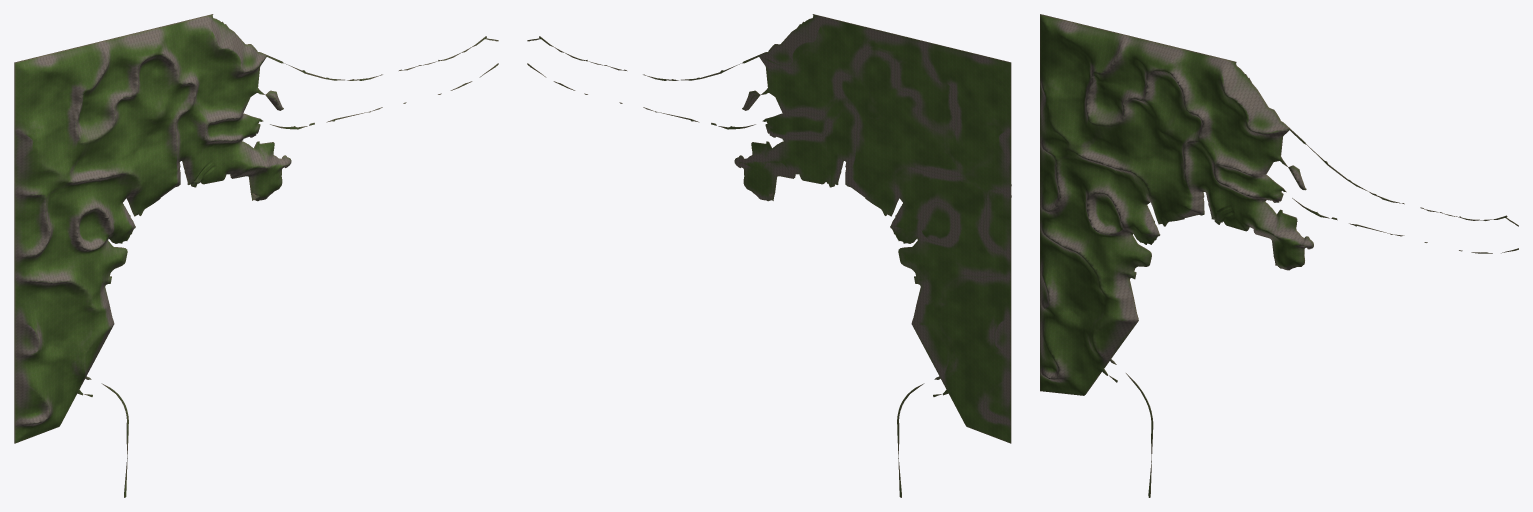
Rendered from green_island_001_bridge_landing.obj.
3 views of the same model, side by side, from view 1: azimuth 30°, elevation 25°; view 2: azimuth 150°, elevation 25°; view 3: azimuth 330°, elevation 25° (orthographic).
Parts seen in each view (by area): view 1: terrain_surface, shoreline_skirt; view 2: seabed_cap, shoreline_skirt; view 3: terrain_surface, shoreline_skirt.
Boxes of the visible parts, box(x1,y1,x2,y2) form: terrain_surface: box(14, 14, 498, 497); shoreline_skirt: box(14, 14, 498, 497); seabed_cap: box(527, 14, 1011, 497); shoreline_skirt: box(527, 14, 1010, 497); terrain_surface: box(1040, 14, 1518, 497); shoreline_skirt: box(1040, 14, 1518, 497).
Size of the model in its own units: 5002 by 4566 by 166.
2 materials, 2 textured.
